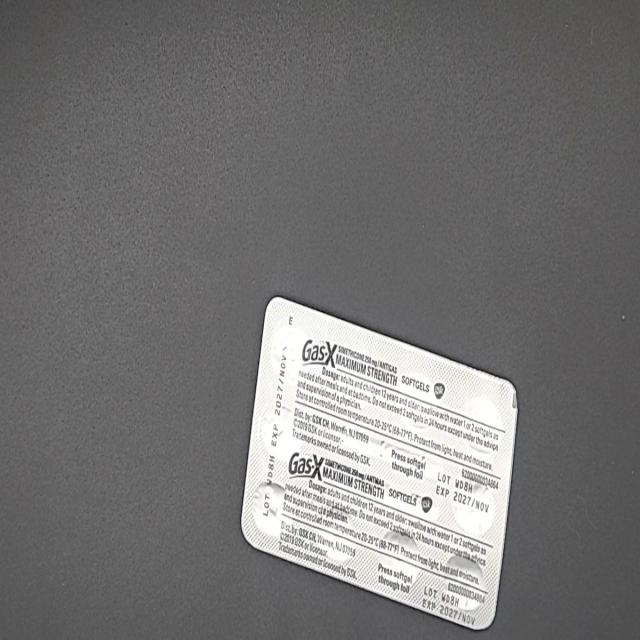no defect: (7, 23, 34, 73)
